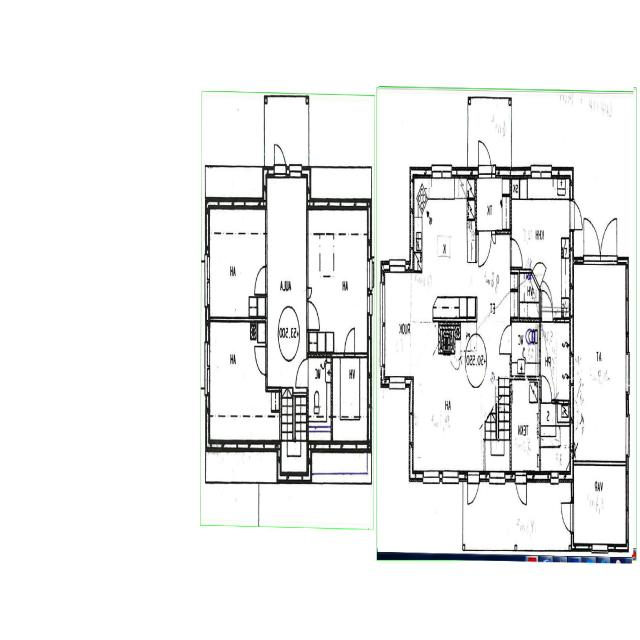door: (600, 215, 617, 265), (584, 215, 600, 265), (531, 252, 546, 290), (478, 230, 492, 268), (479, 136, 491, 178), (570, 199, 586, 230), (468, 471, 480, 512), (274, 138, 286, 178), (306, 300, 320, 330), (560, 503, 574, 531), (516, 471, 526, 508), (499, 325, 512, 353), (255, 267, 268, 295), (542, 289, 553, 322), (510, 239, 522, 267), (296, 359, 308, 387), (255, 347, 267, 374), (344, 327, 354, 357), (542, 376, 551, 404), (491, 156, 496, 178), (306, 288, 313, 300), (492, 230, 496, 244)
